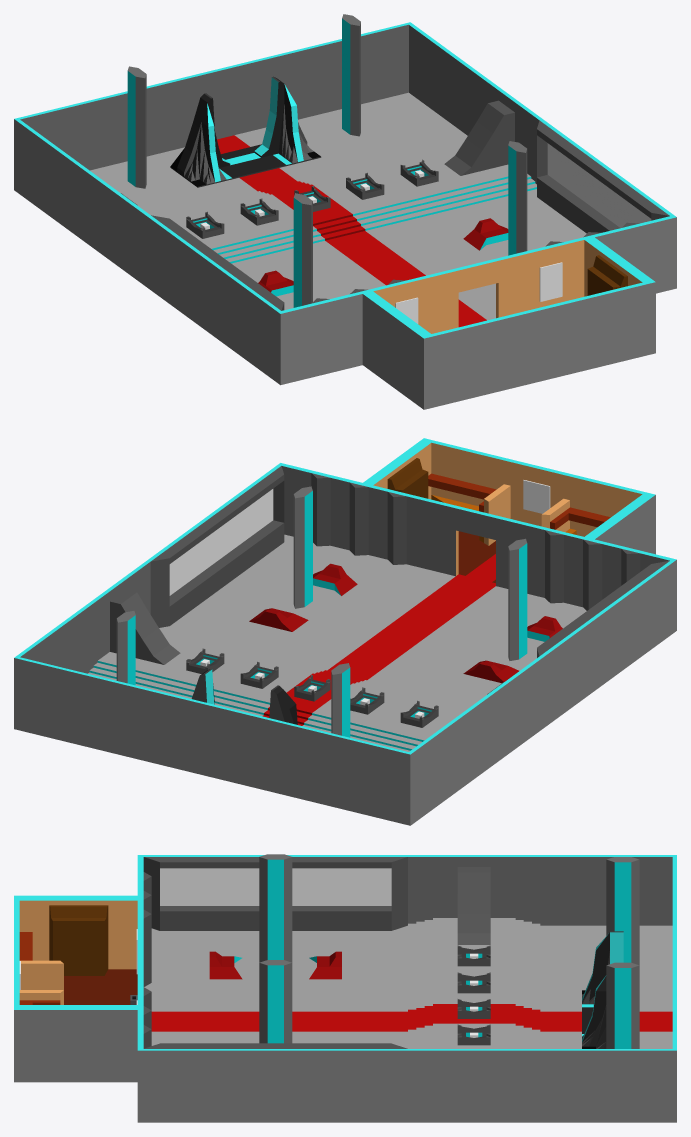
Rendered from Lobby09-10-24.fbx.
The picture shows the model from 3 angles, top to bottom: view 1: azimuth 30°, elevation 25°; view 2: azimuth 150°, elevation 25°; view 3: azimuth 270°, elevation 25°; orthographic projection.
Visible parts, largest first — view 1: Model, Model001; view 2: Model, Model001; view 3: Model, Model001.
Boxes of the visible parts, x1,y1,x2,y2 form: Model: (14,14,676,409); Model001: (170,76,321,187); Model: (14,438,676,825); Model001: (191,669,297,724); Model: (14,854,676,1122); Model001: (582,931,623,1048).
Bounding box in the file's own units: 2492 × 683 × 3567.
